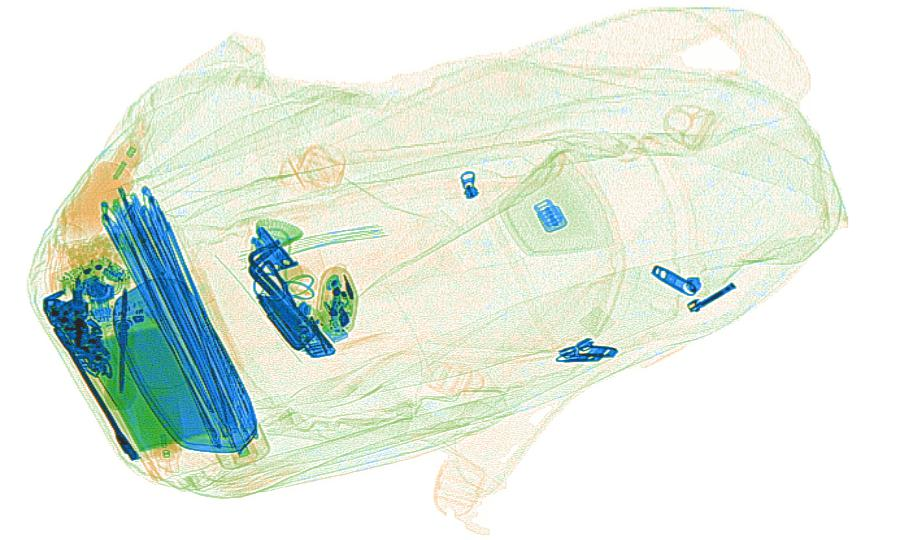plasticBottleWithaNozzle: (55, 121, 149, 252), (136, 378, 185, 477)
